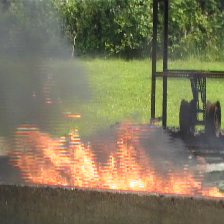fire_h: (12, 121, 224, 198)
fire_l: (43, 86, 51, 104), (68, 114, 81, 117)
